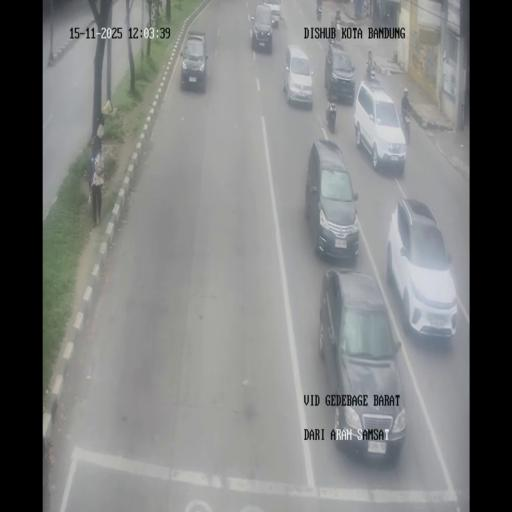car: (320, 272, 404, 460), (387, 199, 456, 340), (305, 139, 358, 262), (355, 79, 406, 173), (324, 41, 356, 104), (283, 44, 313, 108), (180, 31, 208, 93), (262, 1, 280, 27)
motorcycle: (326, 99, 337, 133), (401, 112, 411, 144), (366, 62, 375, 82), (334, 19, 342, 41), (316, 2, 322, 22), (385, 11, 391, 27), (331, 12, 337, 26)
